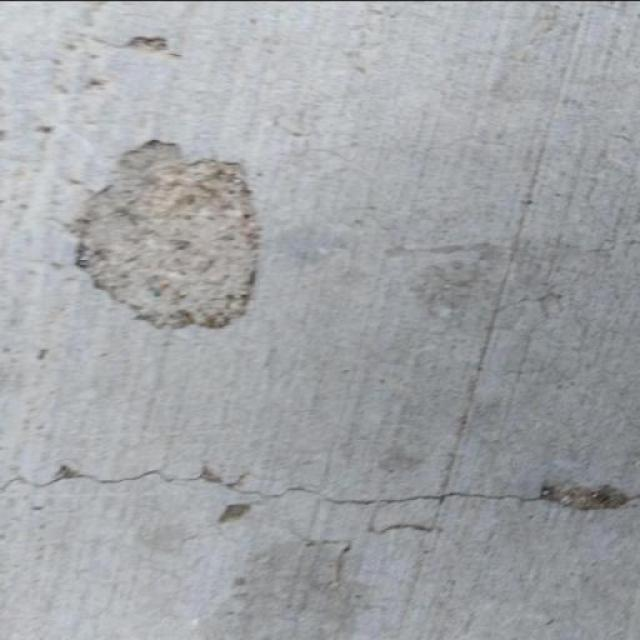D10: (66, 138, 259, 330), (541, 471, 635, 509)
